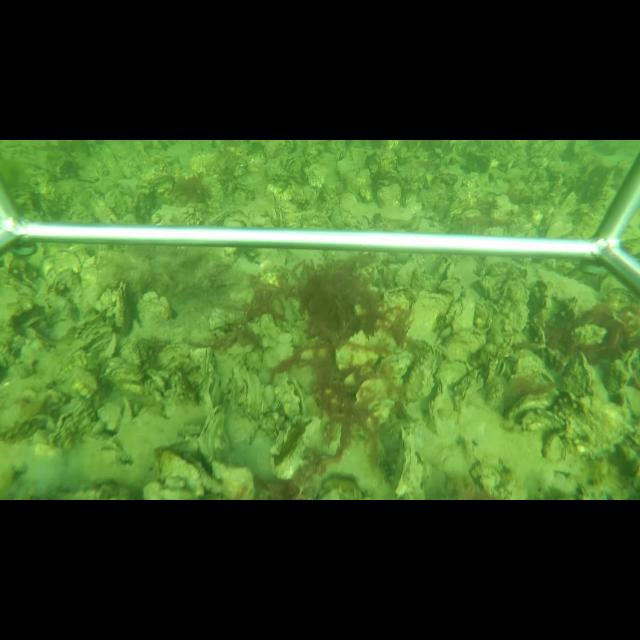Oyster-Closed: (273, 416, 323, 479), (402, 290, 452, 348), (534, 266, 600, 306), (497, 276, 529, 336), (404, 350, 439, 402), (198, 404, 228, 462), (392, 440, 414, 497), (197, 347, 218, 406), (455, 367, 482, 412), (112, 280, 131, 333), (236, 369, 258, 413), (451, 296, 476, 332), (98, 331, 117, 361), (484, 356, 504, 384)
Oyster-Open: (282, 378, 306, 420)
